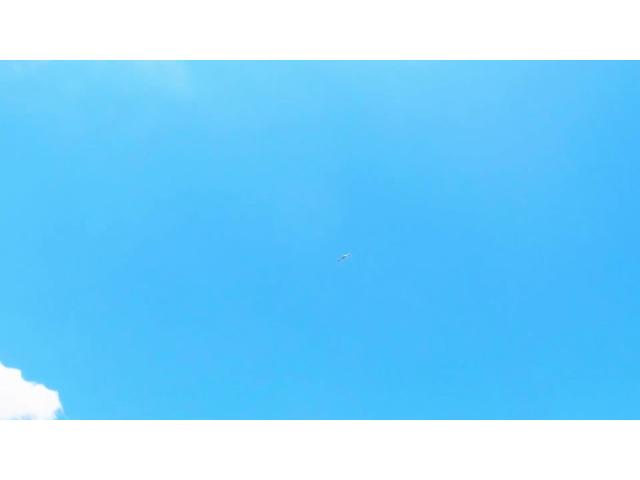Anti-Drone: (328, 244, 358, 272)
